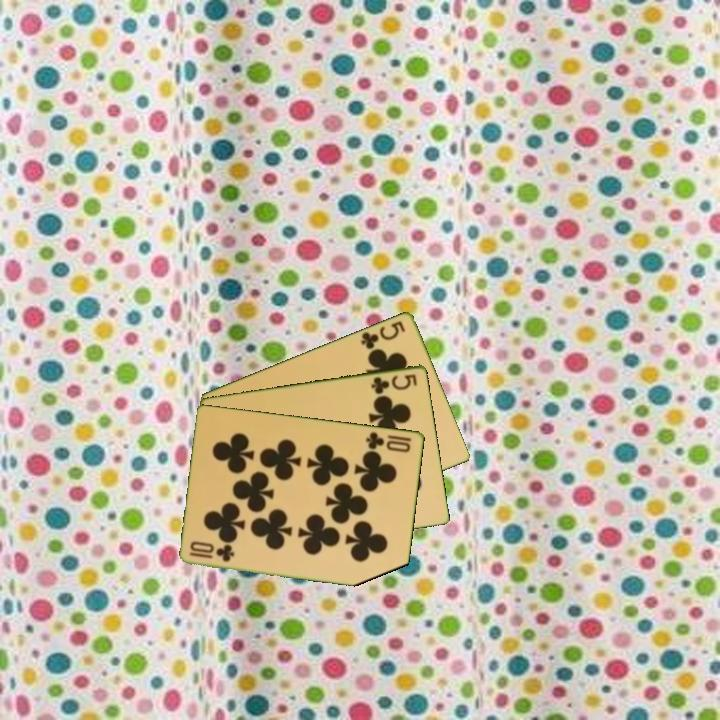10c: (363, 428, 414, 455), (186, 543, 238, 564)
5c: (357, 317, 408, 352), (368, 370, 420, 397)
